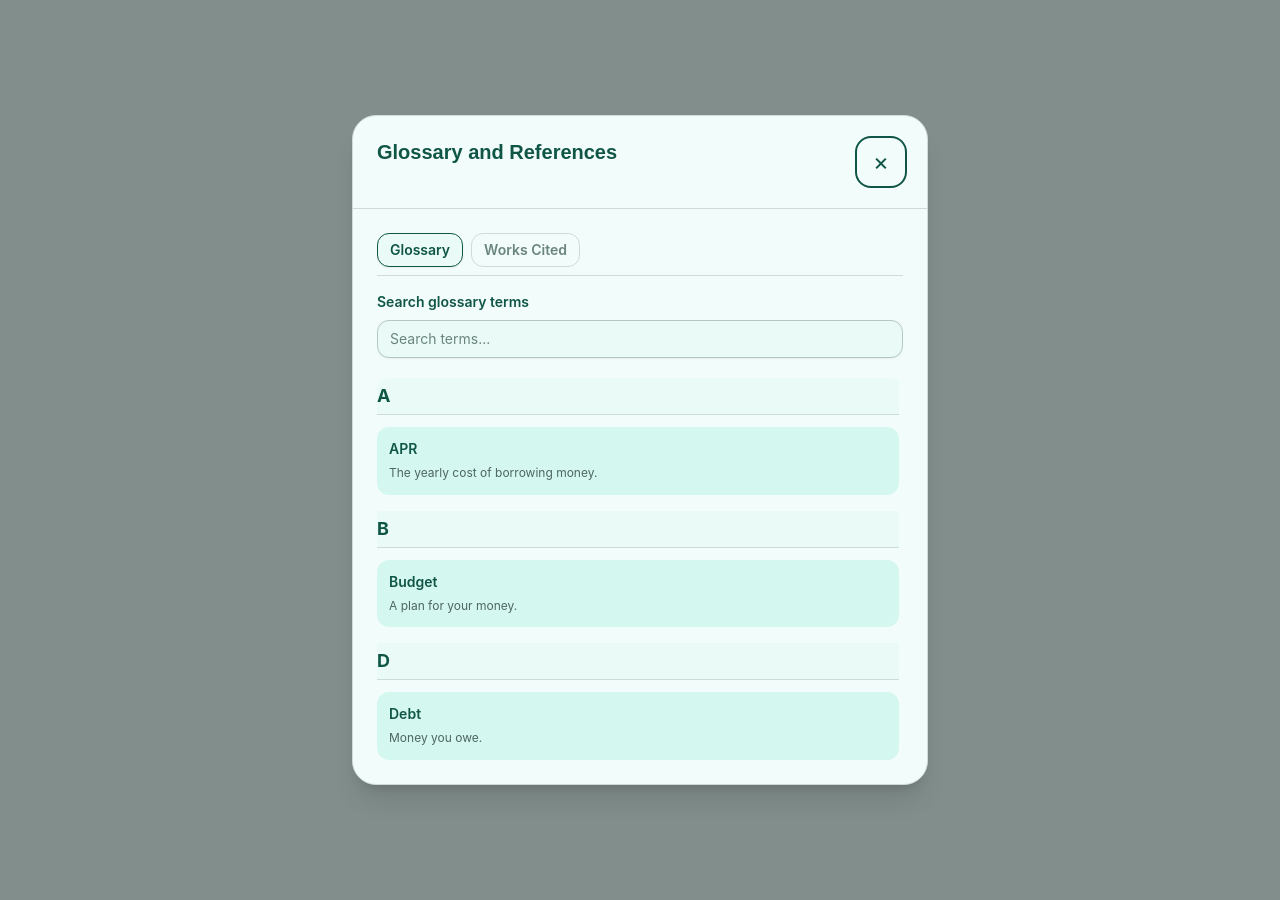
Test: GlossaryModal › shows an empty Works Cited state when the module has no sources
Click the button "Works Cited": (526, 250) [471,233,580,267]
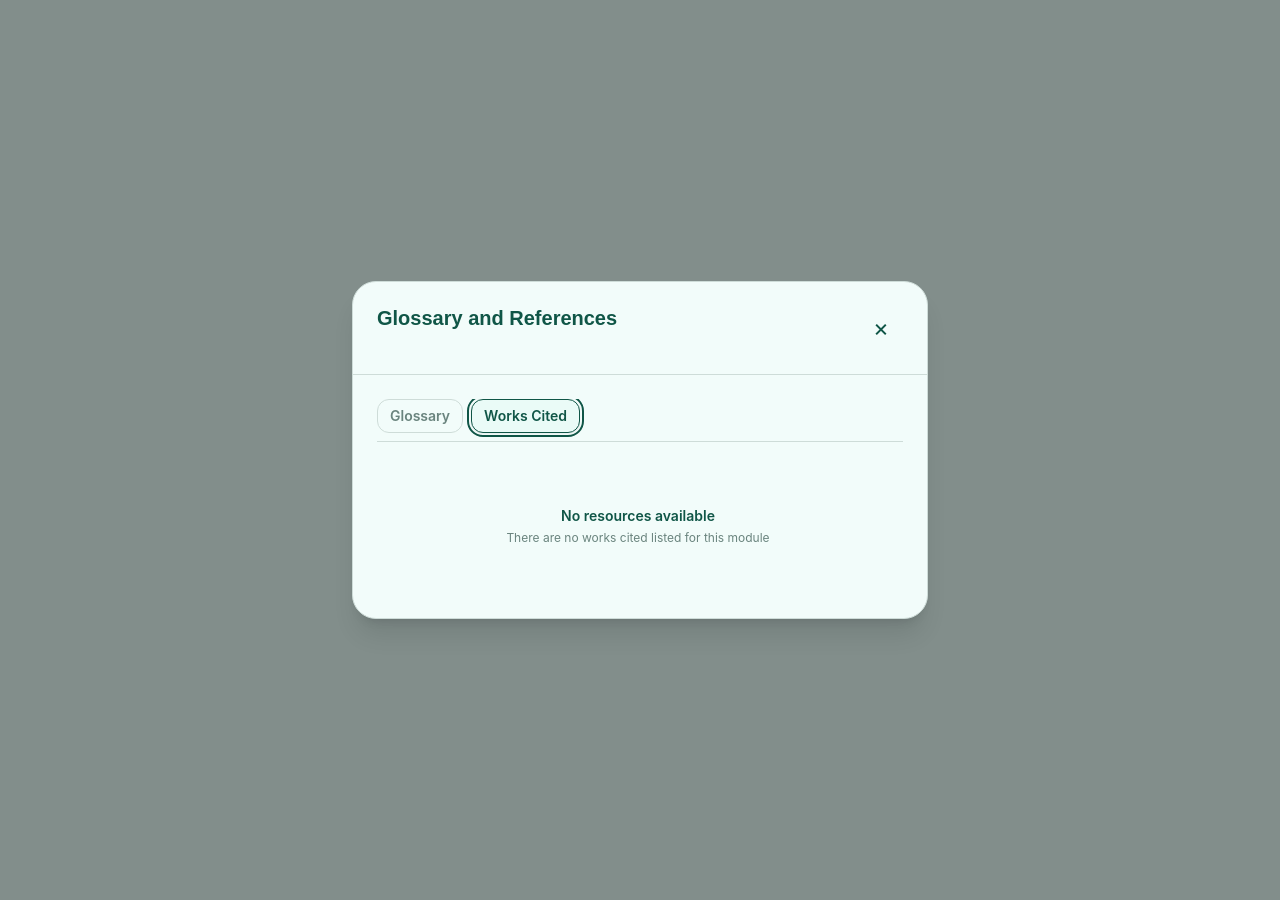
Now the text "No resources available" is shown, box [561,507,715,524]
